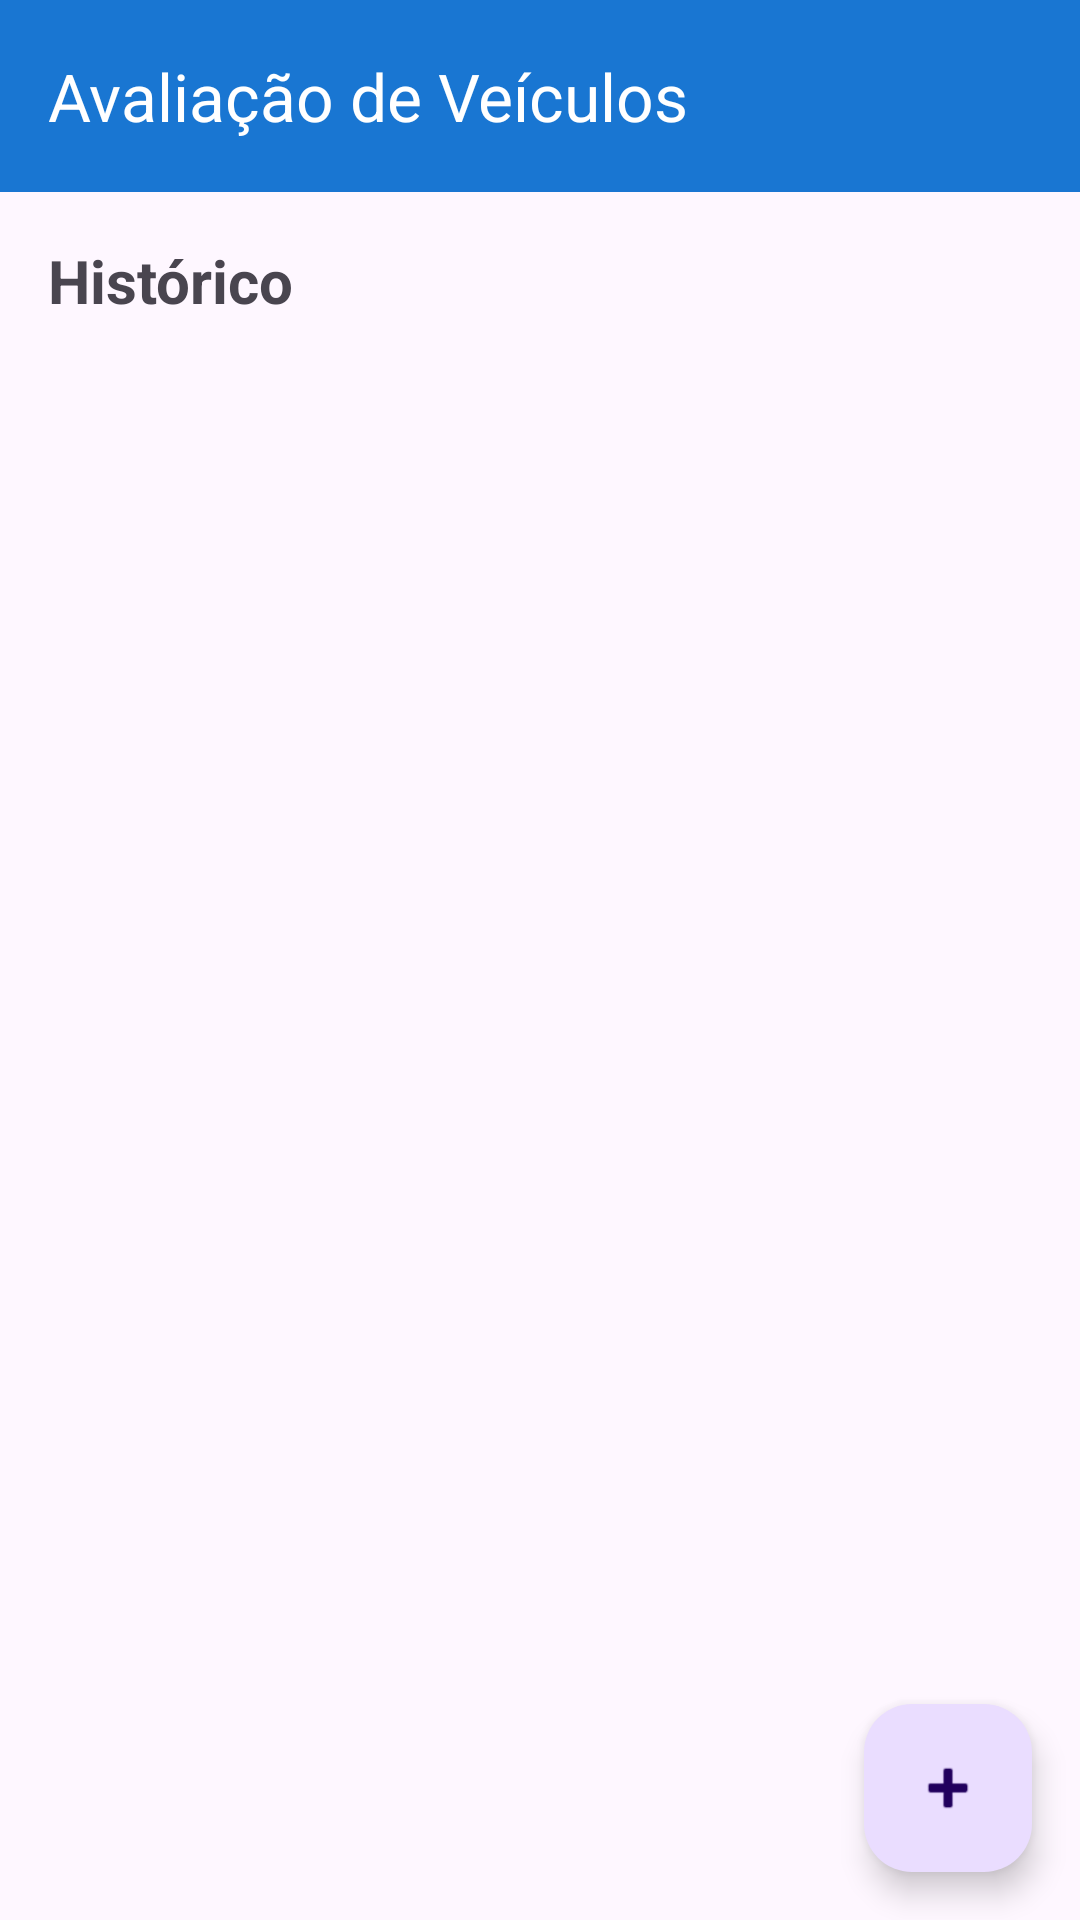

Where to tap for icons on this 1080px×1920px app screen, as [x,y]:
Nova Avaliação: [948,1788]
